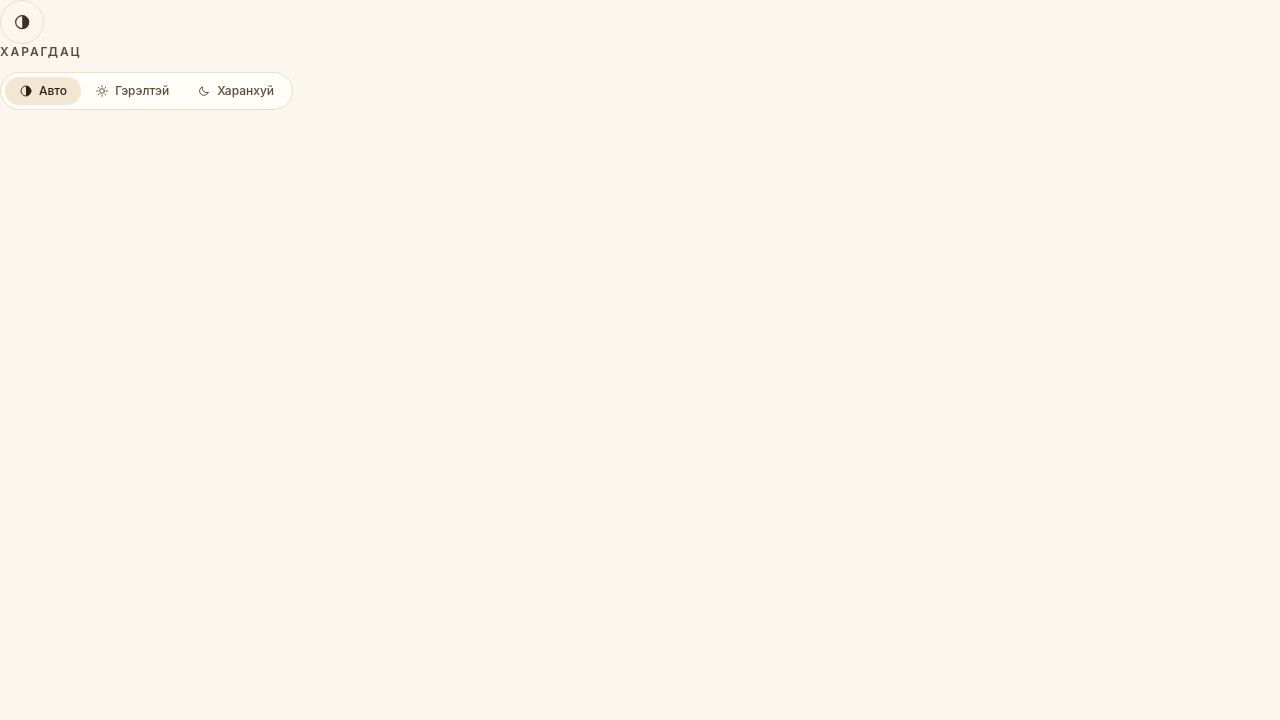
Scenario: the header toggle › agrees with the footer control, because both read the document
Click the button "Харанхуй": (236, 91) [183,77,288,105]
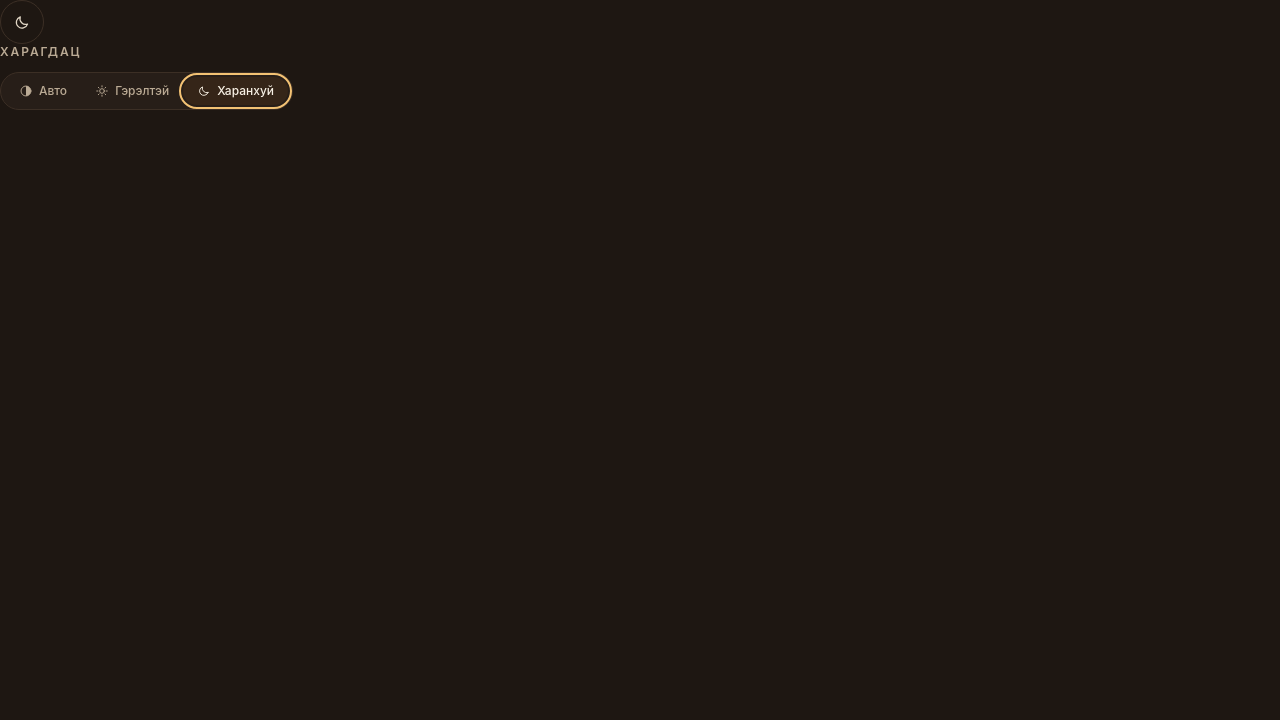
Check: the button named "Харагдац: Харанхуй. Дарвал Авто болно." is shown, box [0,0,44,44]
